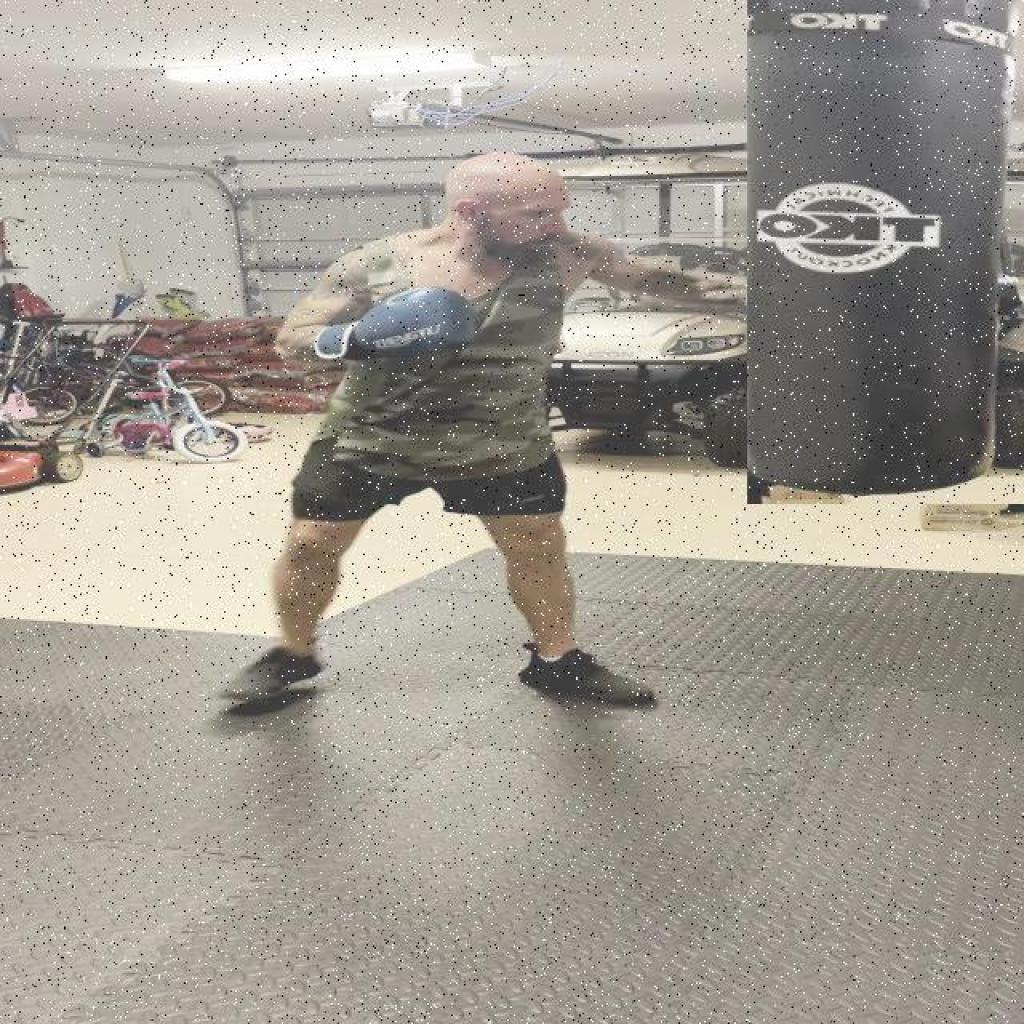bag: (747, 0, 1024, 504)
hook: (275, 126, 813, 381)
